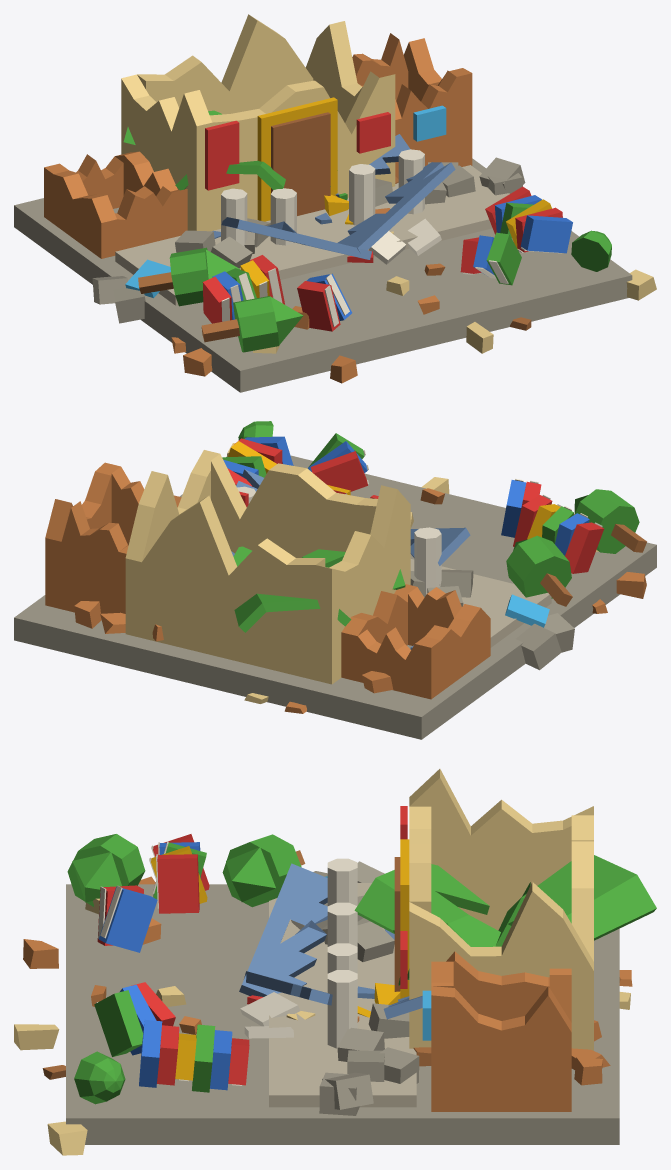
Rendered from library_t3_v2_dmg2.glb.
3 views of the same model, one above another, from view 1: azimuth 30°, elevation 25°; view 2: azimuth 150°, elevation 25°; view 3: azimuth 270°, elevation 25° (orthographic). The views are drawn at different scales.
Parts seen in each view (by area): view 1: library_t3_v2_dmg2; view 2: library_t3_v2_dmg2; view 3: library_t3_v2_dmg2.
Part boxes in pixels (x1,y1,x2,y2): library_t3_v2_dmg2: [14, 14, 656, 392]; library_t3_v2_dmg2: [14, 421, 656, 739]; library_t3_v2_dmg2: [14, 769, 656, 1155].
Bounding box in the file's own units: 0.8418 × 0.3037 × 0.8706.
Materials: 1 (1 with a texture image).
